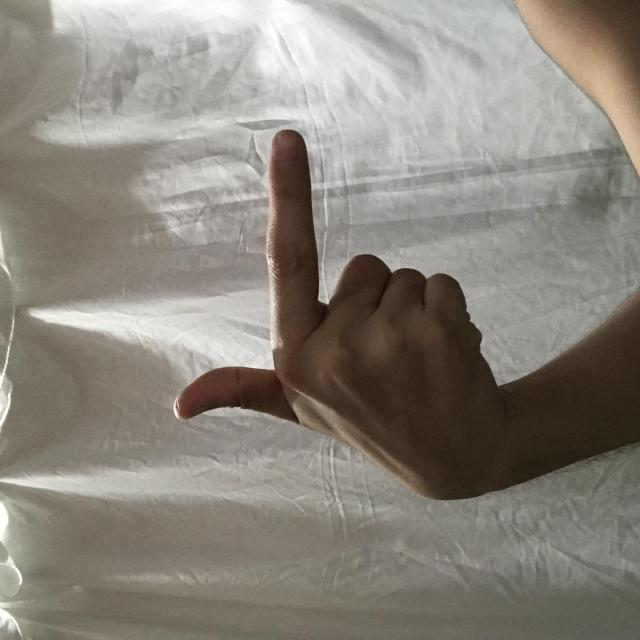G: (151, 173, 514, 501)
